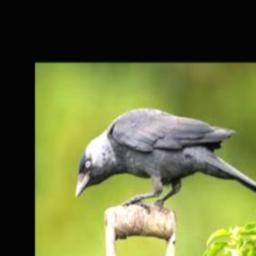Crow: (76, 107, 256, 213)
